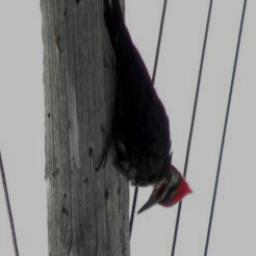Woodpecker: (94, 0, 195, 218)
